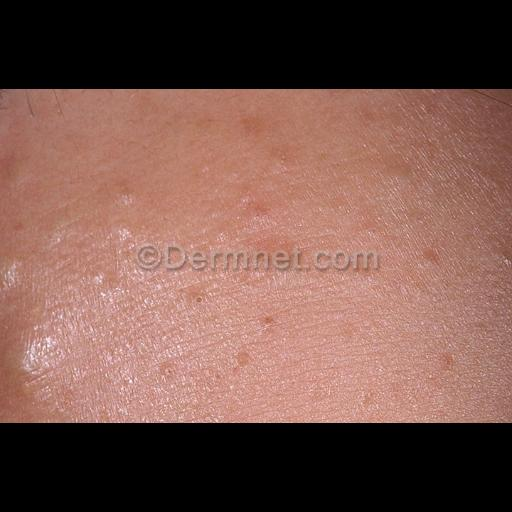Skin_Lesion: (0, 263, 26, 307), (186, 274, 216, 310), (115, 183, 143, 213), (420, 240, 446, 268), (236, 192, 272, 210), (111, 212, 133, 240), (354, 389, 388, 407), (438, 350, 460, 372), (258, 312, 278, 334), (162, 359, 182, 381), (274, 149, 294, 169), (0, 90, 14, 116), (320, 88, 356, 98), (235, 350, 257, 364)
